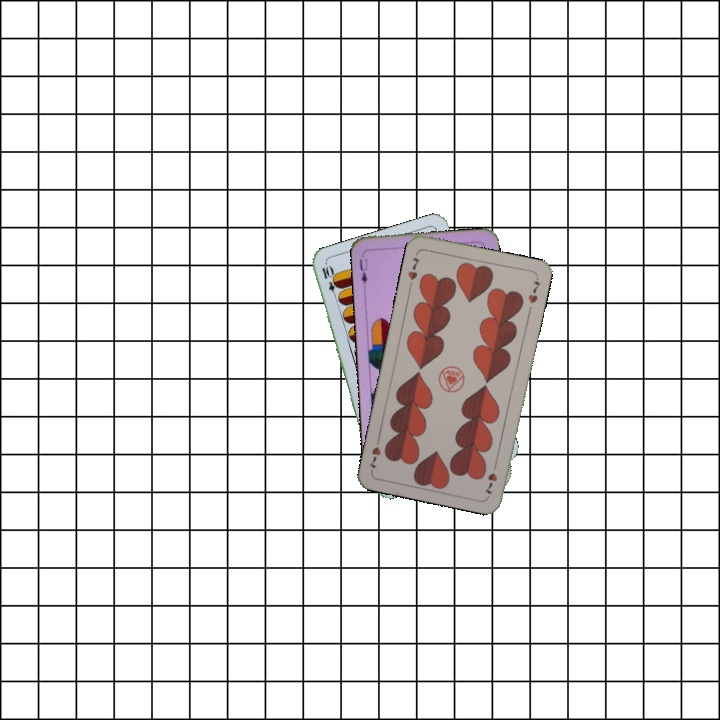E10: (318, 261, 341, 301)
EU: (356, 255, 370, 291)
H7: (481, 458, 500, 498), (404, 253, 423, 289)
